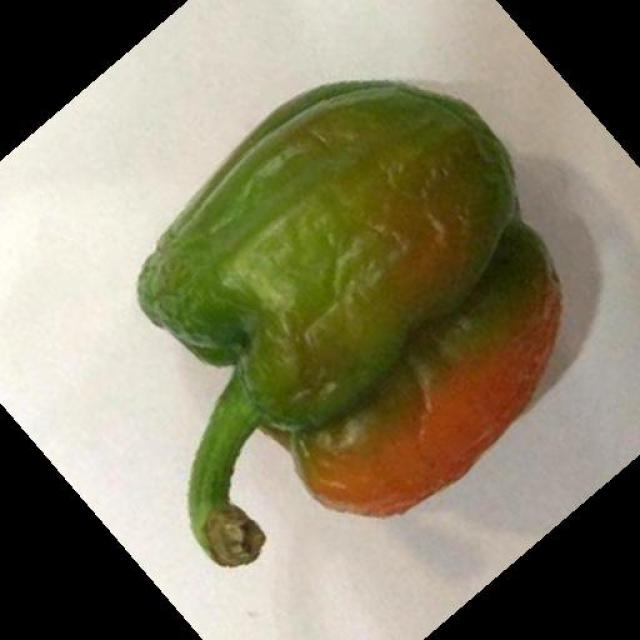Stale_Capsicum: (107, 104, 549, 482)
